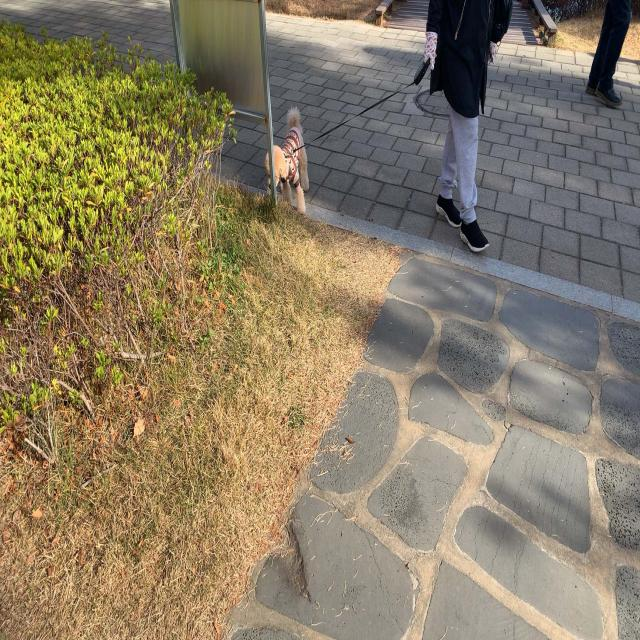Leashed_Dog: (266, 28, 462, 216)
